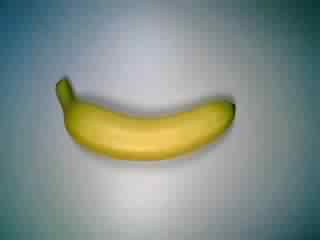banana: (52, 76, 239, 161)
